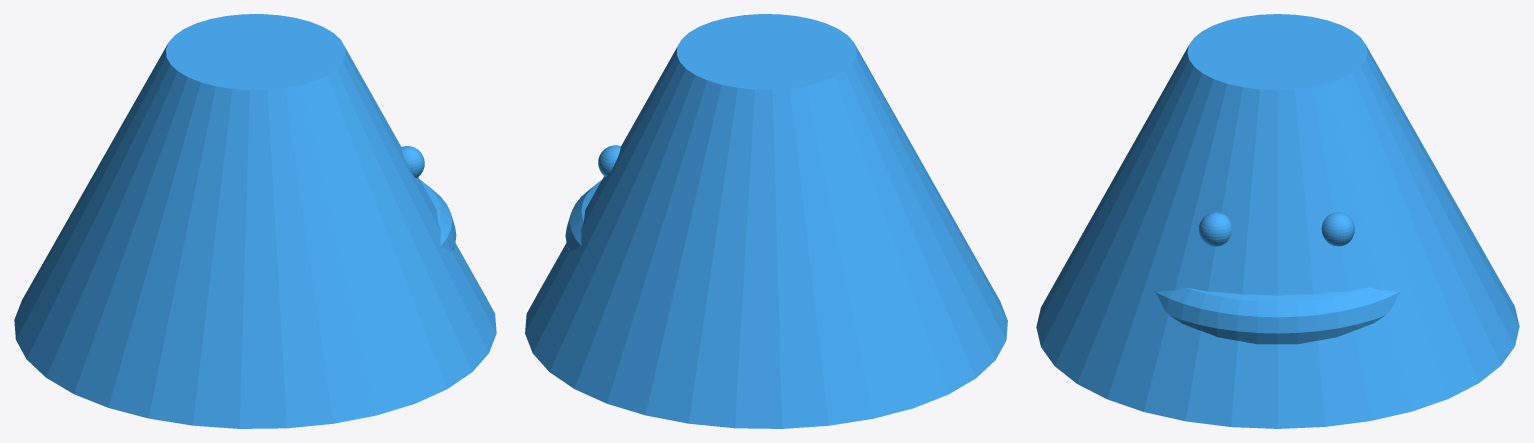
File: blueMountain.fbx
3 views of the same model, side by side, from view 1: azimuth 30°, elevation 25°; view 2: azimuth 150°, elevation 25°; view 3: azimuth 270°, elevation 25° (orthographic).
Visible parts, largest first — view 1: トーラス; view 2: トーラス; view 3: トーラス.
Part boxes in pixels (x1=…): トーラス: x1=14, y1=14, x2=496, y2=428; トーラス: x1=525, y1=14, x2=1007, y2=428; トーラス: x1=1036, y1=14, x2=1519, y2=428.
Size of the model in its own units: 380 by 239 by 380.
1 material, 1 textured.
